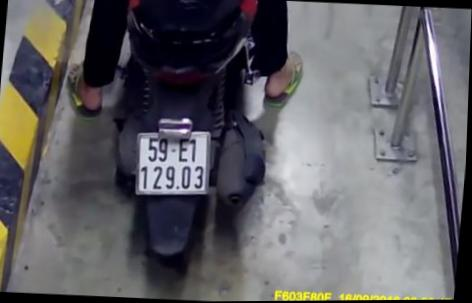LP: (131, 126, 217, 200)
